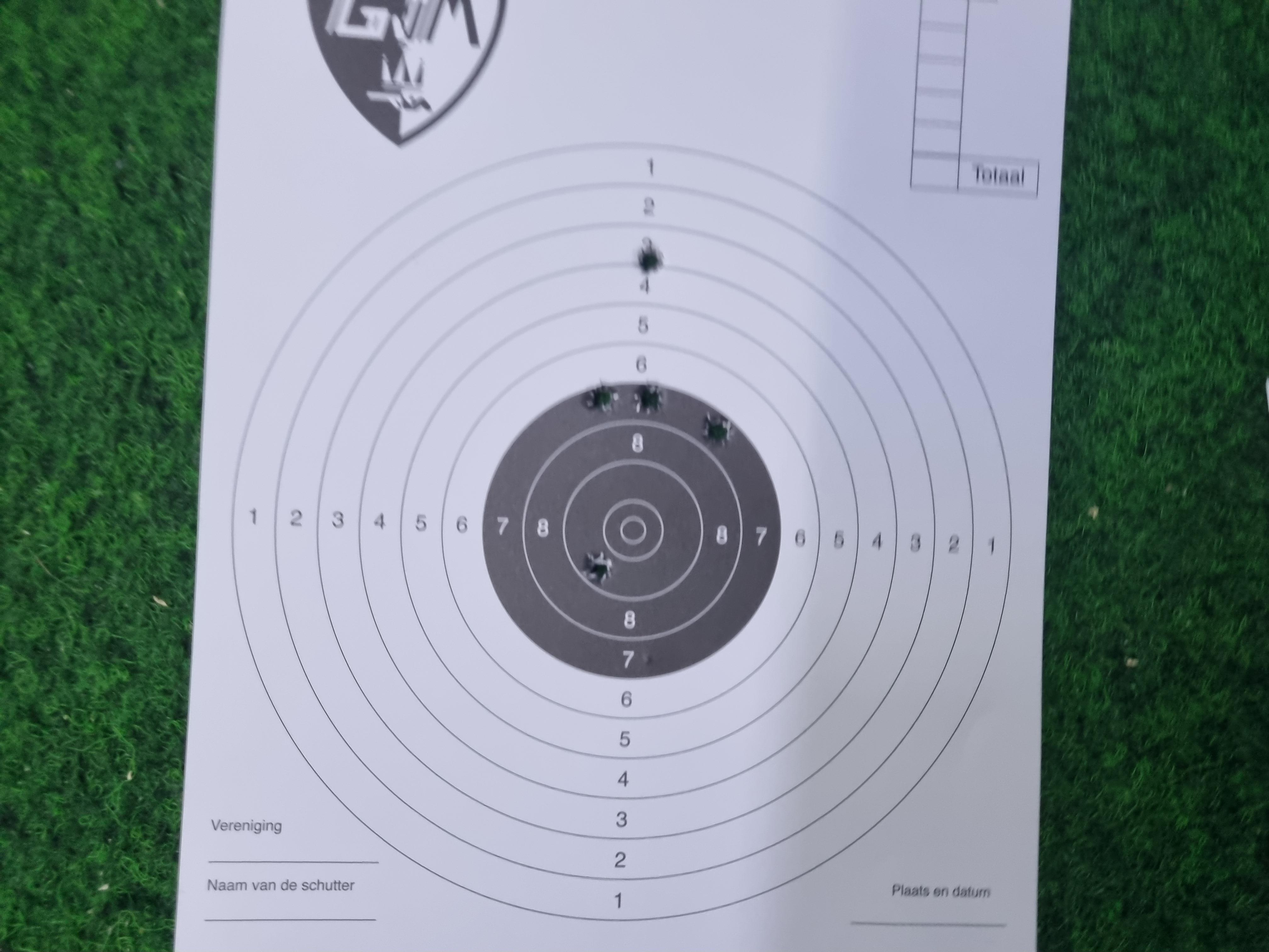hole: (677, 527, 722, 550), (903, 478, 951, 498), (489, 438, 532, 460), (720, 438, 756, 464), (718, 475, 758, 497)
